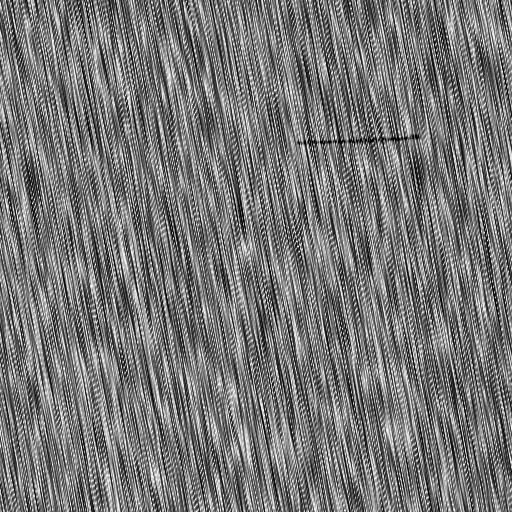DefectTypeC: (292, 134, 423, 145)
